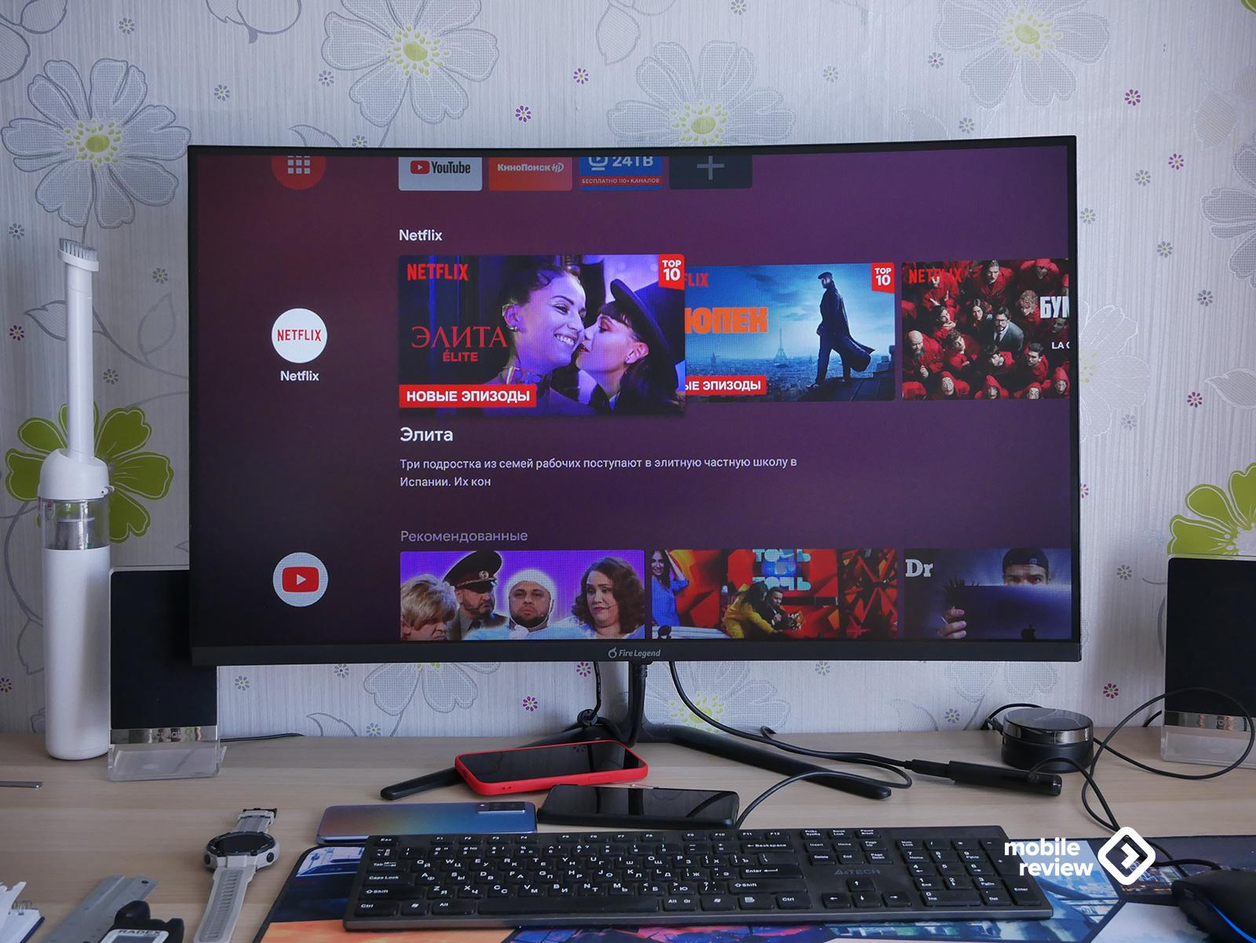monitor: (175, 132, 1099, 815)
